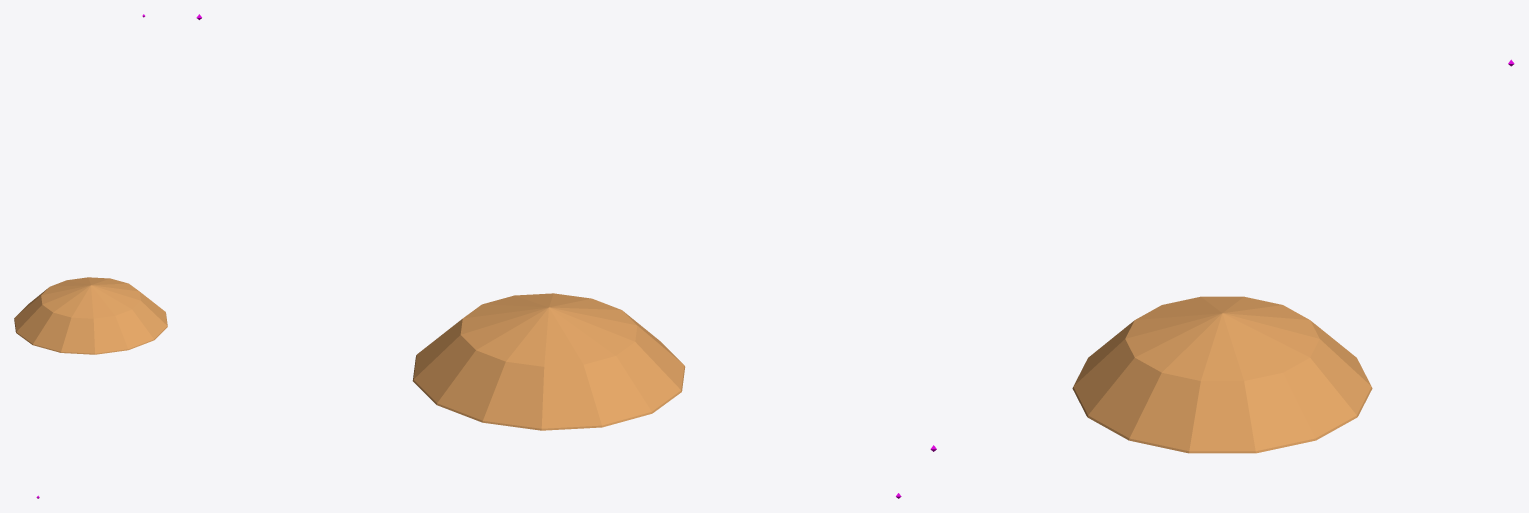
The model's file is acc_toasted.fbx.
The picture shows the model from 3 angles, left to right: view 1: azimuth 30°, elevation 25°; view 2: azimuth 150°, elevation 25°; view 3: azimuth 270°, elevation 25°; orthographic projection. The views are drawn at different scales.
Parts seen in each view (by area): view 1: Toast; view 2: Toast; view 3: Toast.
Part boxes in pixels (<box>): Toast: <box>14,277,167,354</box>; Toast: <box>412,293,685,430</box>; Toast: <box>1072,296,1372,453</box>.
Size of the model in its own units: 2.99 by 3.6 by 2.99.
